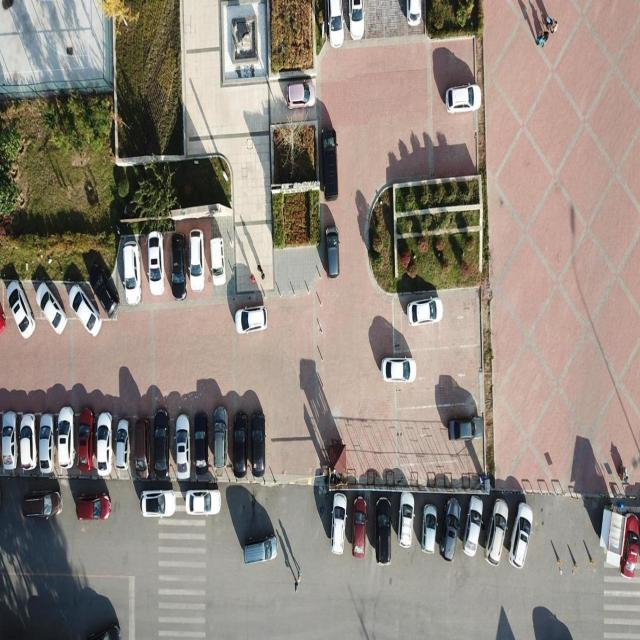p3rson: (551, 18, 559, 34), (536, 34, 544, 48), (543, 28, 549, 42)
